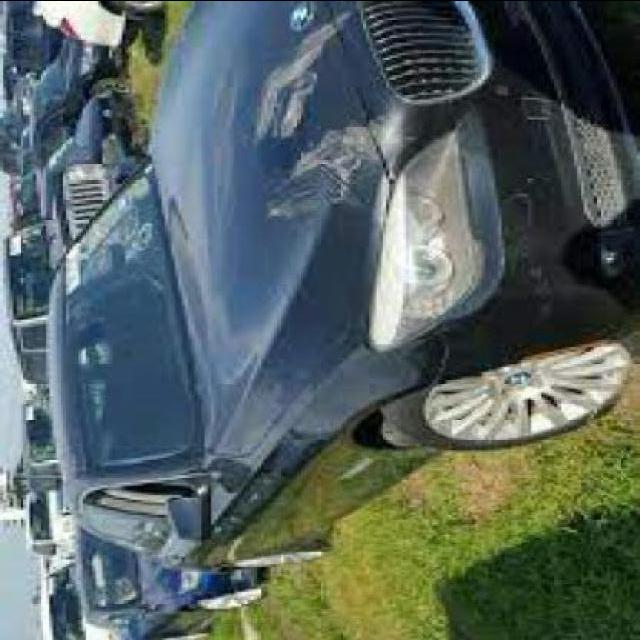bonnet-dent: (159, 1, 420, 458)
